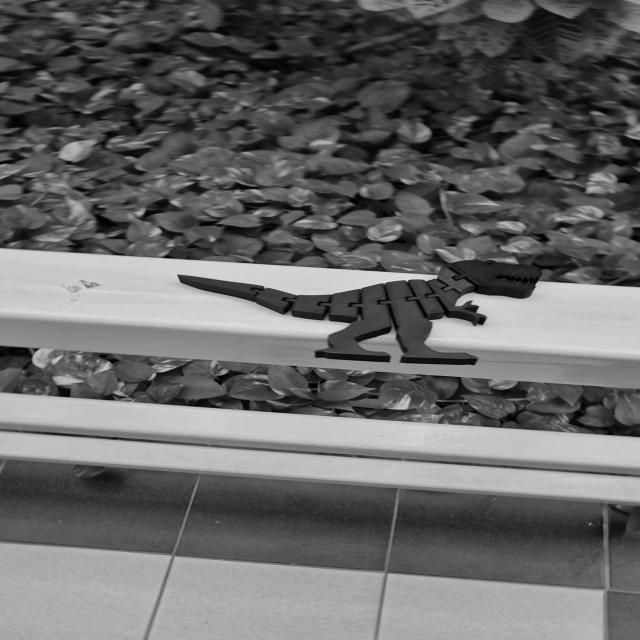dino: (176, 259, 544, 366)
